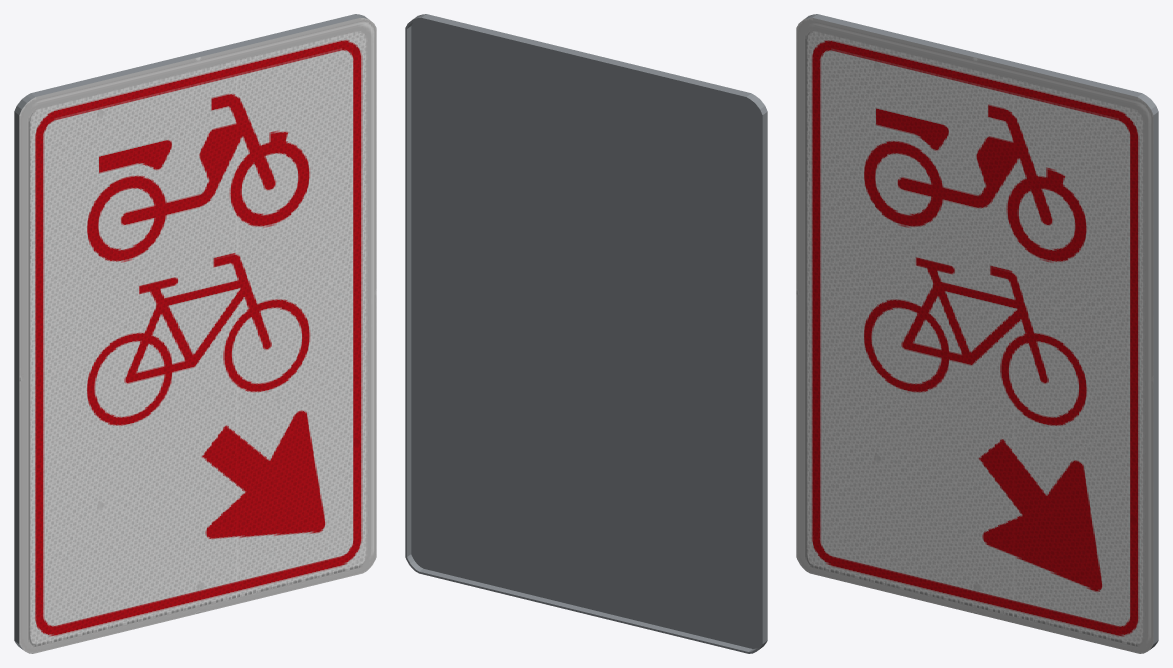
3 renders of one model, left to right at view 1: azimuth 30°, elevation 25°; view 2: azimuth 150°, elevation 25°; view 3: azimuth 330°, elevation 25°, orthographic.
Parts seen in each view (by area): view 1: cat_91c31f15e0a6a99e; view 2: cat_91c31f15e0a6a99e; view 3: cat_91c31f15e0a6a99e.
Part boxes in pixels (bbox=[...]): cat_91c31f15e0a6a99e: bbox=[14, 14, 376, 653]; cat_91c31f15e0a6a99e: bbox=[405, 14, 767, 653]; cat_91c31f15e0a6a99e: bbox=[796, 14, 1158, 653].
Size of the model in its own units: 0.6 by 0.015 by 0.8927.
2 materials, 1 textured.
